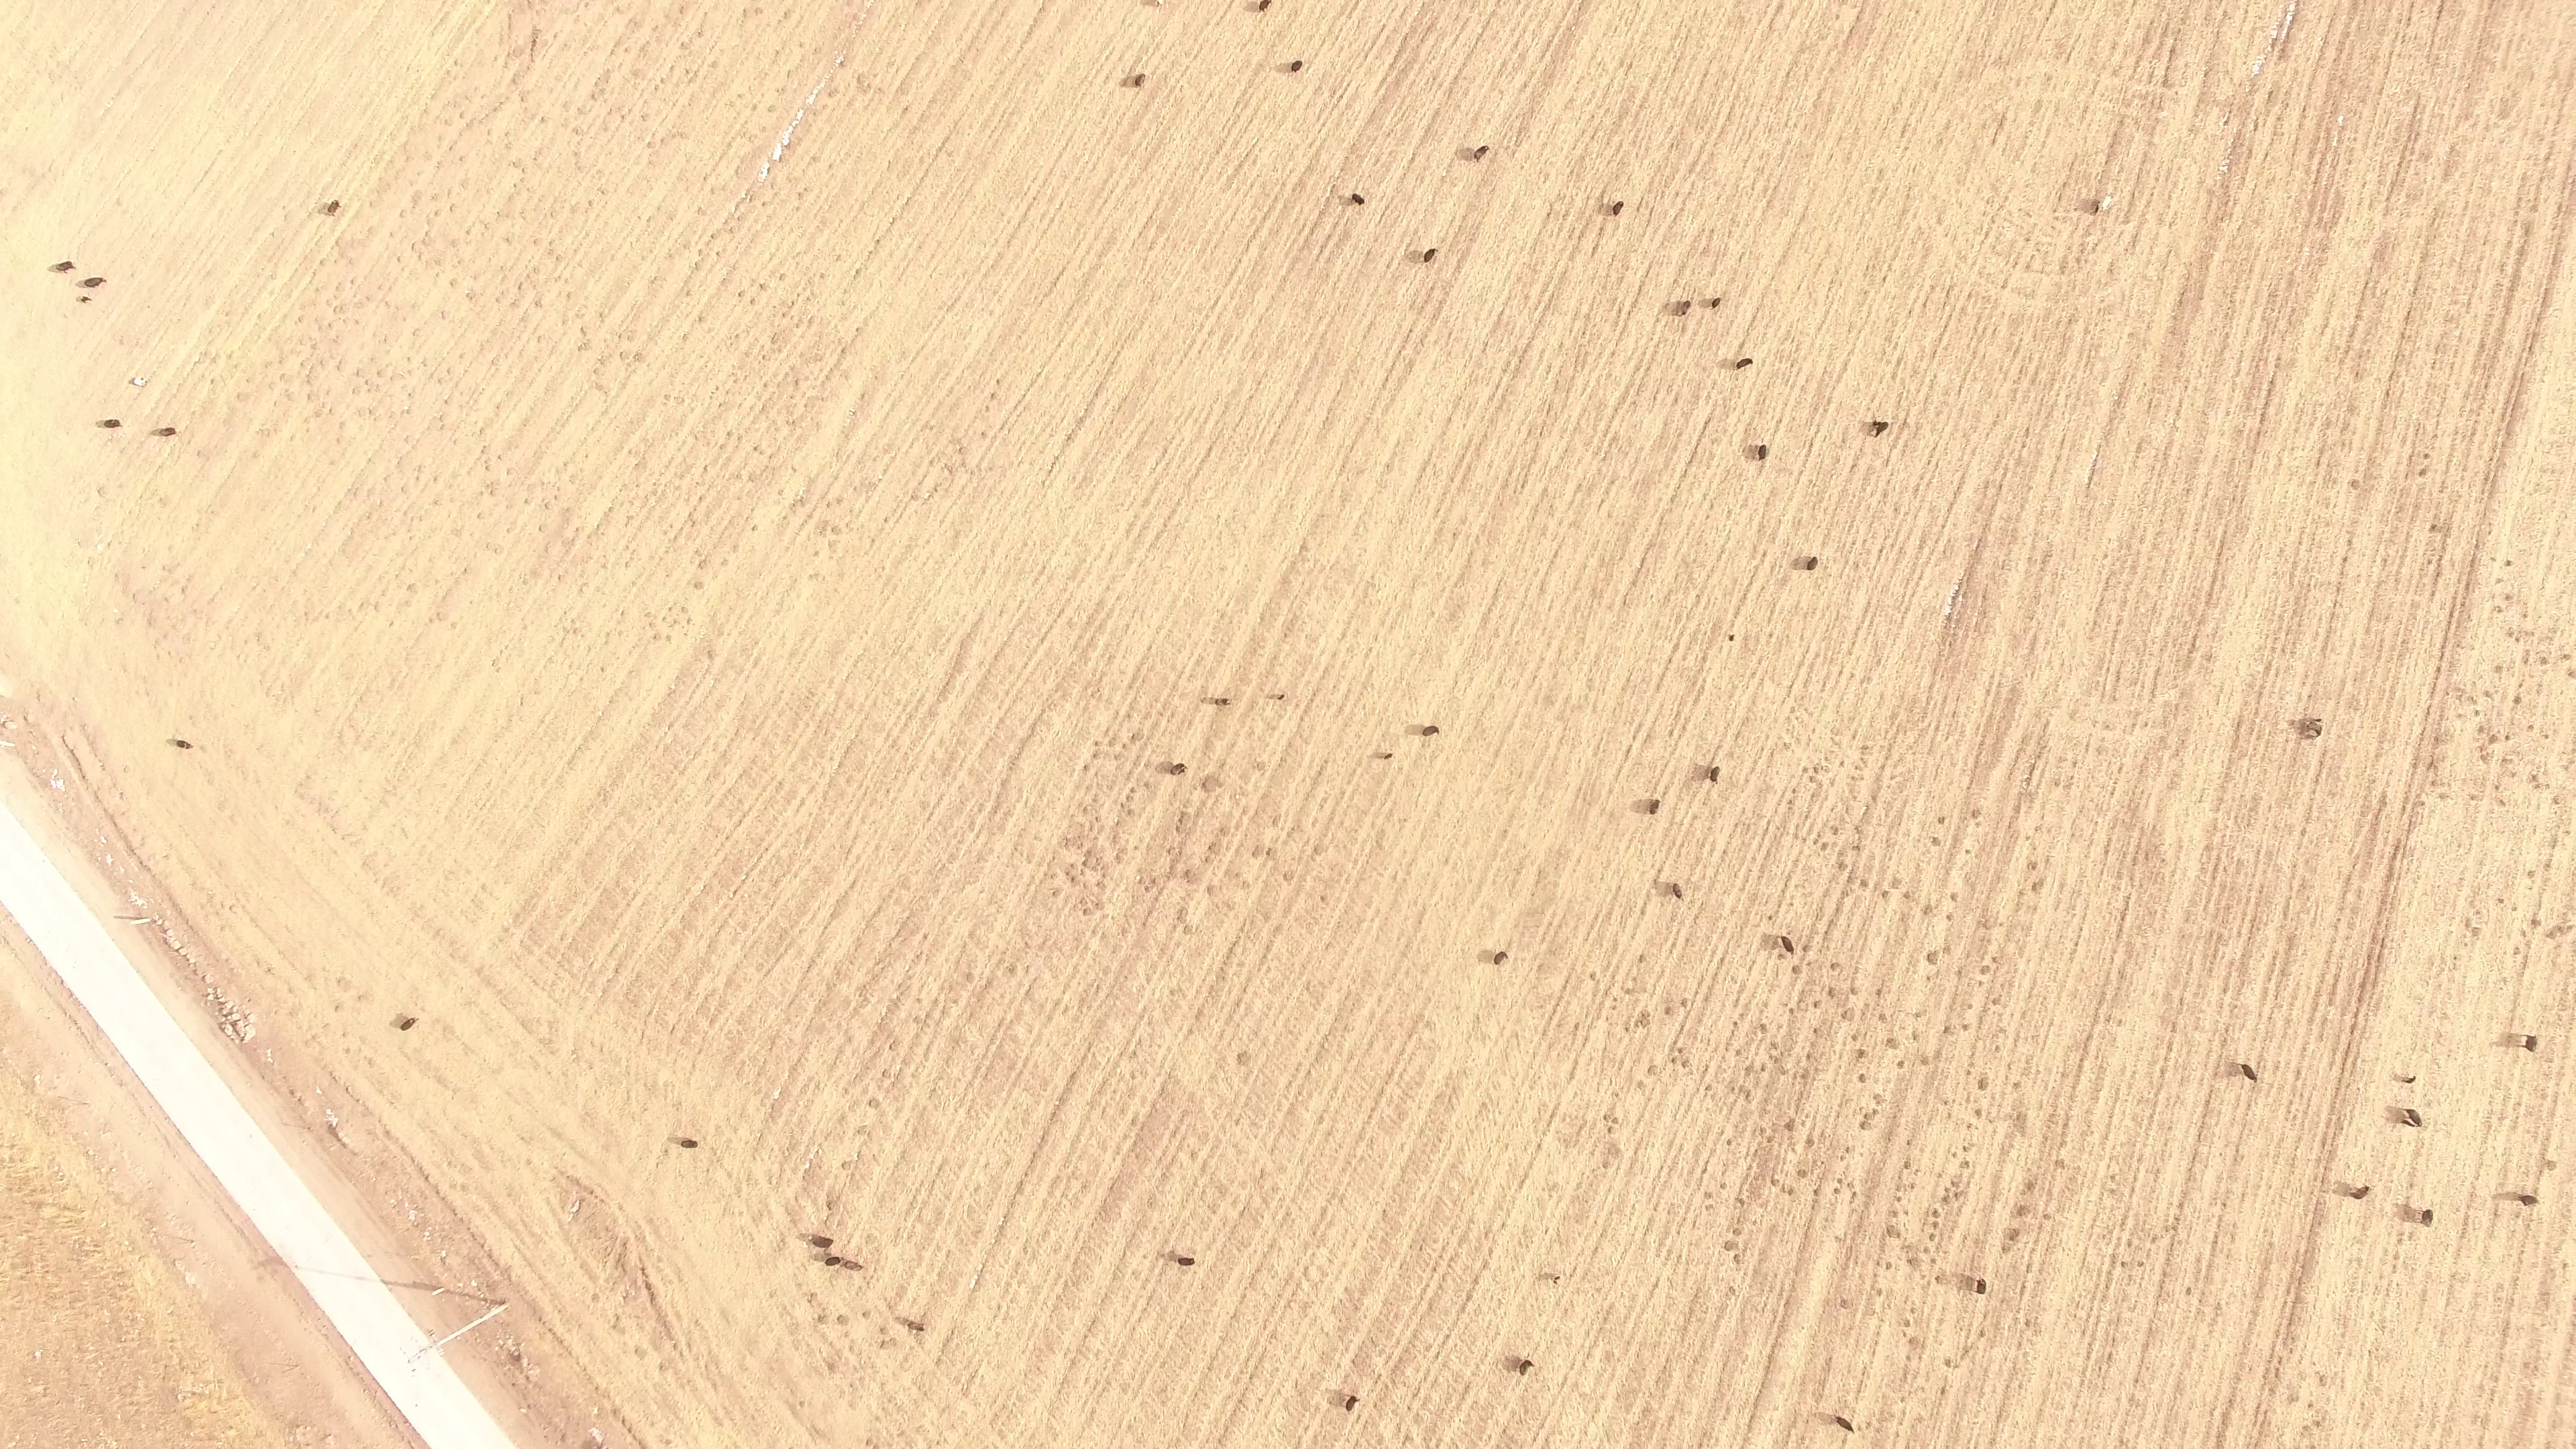sheep: (2396, 1106, 2425, 1130), (1124, 70, 1153, 91), (2235, 1061, 2261, 1085), (1831, 1411, 1856, 1434), (2092, 193, 2114, 218), (1513, 1356, 1536, 1379), (2345, 1183, 2372, 1203), (1167, 759, 1193, 779), (1340, 1391, 1360, 1414), (1868, 417, 1892, 439), (1672, 297, 1695, 319), (1778, 933, 1797, 957), (2516, 1190, 2540, 1210), (1731, 355, 1760, 372), (1416, 722, 1442, 740), (1469, 144, 1490, 164), (2417, 1206, 2436, 1230), (1667, 879, 1686, 902), (1607, 197, 1627, 219), (1210, 694, 1234, 711), (1285, 58, 1309, 76), (2522, 1032, 2540, 1055), (1489, 948, 1510, 968), (1802, 553, 1821, 574), (1752, 442, 1771, 463), (1418, 245, 1438, 266), (1645, 797, 1663, 818), (1973, 1276, 1990, 1297), (1705, 764, 1723, 786), (1346, 191, 1368, 209), (1250, 1, 1277, 15), (1705, 294, 1724, 311), (2399, 1074, 2418, 1087), (1546, 1273, 1563, 1285), (1381, 749, 1395, 763), (1725, 632, 1737, 644), (1275, 692, 1287, 703)
unknown: (2296, 714, 2325, 743), (389, 1011, 419, 1034), (2355, 971, 2372, 1007), (899, 1315, 927, 1335), (479, 1295, 508, 1317), (256, 1251, 288, 1269), (667, 1134, 701, 1152), (319, 197, 343, 219), (74, 274, 107, 291), (409, 1426, 432, 1449), (2398, 1200, 2420, 1224), (48, 258, 76, 276), (164, 736, 195, 753), (148, 424, 179, 440), (409, 1279, 441, 1294), (95, 416, 123, 431), (1957, 1273, 1976, 1295), (2080, 196, 2103, 217), (2388, 838, 2404, 863), (2501, 1030, 2520, 1051), (1174, 1253, 1197, 1269), (506, 1350, 524, 1369), (324, 1122, 341, 1142), (1782, 1115, 1799, 1134), (2503, 416, 2517, 439), (2383, 861, 2397, 881), (2006, 1226, 2023, 1244), (2013, 1201, 2030, 1220), (2529, 772, 2542, 792), (770, 143, 784, 162), (2023, 1177, 2037, 1195), (227, 1017, 240, 1035), (1768, 936, 1782, 953), (2364, 951, 2375, 969), (1199, 775, 1212, 794), (2445, 608, 2457, 628), (2282, 23, 2295, 42), (1884, 1222, 1898, 1238), (215, 1019, 228, 1035), (2186, 641, 2198, 657), (2298, 1258, 2310, 1276), (2347, 1020, 2360, 1038), (2461, 578, 2473, 594), (75, 293, 91, 306), (1722, 1240, 1736, 1254), (1854, 1048, 1868, 1062), (1941, 1022, 1954, 1036), (2416, 466, 2430, 479), (2288, 1301, 2300, 1319), (612, 1257, 628, 1271), (1794, 1167, 1810, 1180), (1662, 1004, 1674, 1018), (1825, 984, 1837, 1000), (1925, 950, 1937, 967), (2467, 556, 2478, 572), (2263, 386, 2275, 401), (2284, 13, 2300, 25), (2295, 1273, 2306, 1291), (2075, 1055, 2086, 1072), (825, 1360, 838, 1373), (646, 1291, 659, 1305), (642, 1279, 655, 1294), (1929, 1207, 1941, 1221), (1734, 1195, 1748, 1208), (1975, 1077, 1987, 1092), (221, 1009, 235, 1021), (2544, 928, 2557, 942), (2469, 927, 2481, 940), (1824, 917, 1837, 931), (2528, 916, 2543, 929), (1900, 889, 1913, 902), (1858, 876, 1870, 890), (1181, 866, 1193, 880), (1929, 834, 1941, 847), (2485, 732, 2499, 747), (2511, 694, 2524, 708), (2529, 329, 2542, 341), (580, 1438, 596, 1449), (2271, 1364, 2282, 1381), (2342, 1043, 2353, 1059), (2029, 879, 2040, 895), (2550, 250, 2561, 266), (2268, 35, 2279, 51), (399, 1413, 412, 1427), (1838, 1295, 1850, 1308), (1939, 1193, 1952, 1205), (1804, 1136, 1817, 1148), (1972, 1106, 1984, 1119), (1856, 1071, 1868, 1082), (1895, 1058, 1907, 1070), (1884, 1035, 1897, 1046), (1876, 1011, 1887, 1023), (1789, 964, 1801, 976), (1760, 934, 1772, 947), (2028, 859, 2040, 873), (1079, 857, 1091, 869), (1935, 815, 1947, 827), (2475, 723, 2487, 736), (2537, 655, 2550, 667), (2502, 592, 2514, 603), (2427, 521, 2439, 535), (2420, 450, 2432, 462), (2509, 402, 2521, 414), (2183, 1285, 2194, 1298), (1811, 1186, 1821, 1199), (1858, 1118, 1869, 1132), (1849, 843, 1864, 853), (1142, 1, 1159, 9), (1750, 1400, 1761, 1412), (1937, 1385, 1948, 1397), (350, 1369, 363, 1379), (1463, 1292, 1474, 1303), (1933, 1273, 1943, 1284), (1904, 1256, 1915, 1267), (2149, 1234, 2159, 1244), (1930, 1220, 1940, 1231), (1785, 1186, 1796, 1198), (1952, 1179, 1962, 1190), (1600, 1159, 1611, 1171), (2544, 1158, 2555, 1170), (1962, 1158, 1972, 1169), (2318, 1138, 2329, 1149), (1609, 1115, 1621, 1127), (2010, 1079, 2022, 1090), (1799, 1071, 1811, 1082), (1743, 1064, 1754, 1076), (1919, 1055, 1931, 1067), (1675, 1044, 1686, 1057), (1811, 1025, 1821, 1036), (1960, 1021, 1970, 1032), (1758, 1021, 1768, 1033), (1638, 1011, 1649, 1023), (1678, 998, 1689, 1010), (214, 998, 226, 1009), (1874, 986, 1885, 998), (1989, 954, 1999, 965), (1776, 951, 1788, 962), (1799, 943, 1811, 955), (160, 934, 170, 947), (2554, 923, 2565, 934), (2564, 922, 2575, 932), (1080, 906, 1090, 918), (2495, 896, 2507, 906), (1835, 860, 1845, 871), (1084, 847, 1095, 860), (1819, 841, 1830, 853), (1831, 826, 1841, 838), (1124, 806, 1135, 817), (1868, 793, 1880, 804), (2425, 759, 2436, 771), (2233, 731, 2243, 743), (2288, 717, 2298, 729), (1267, 692, 1279, 702), (2433, 663, 2444, 676), (2560, 651, 2571, 663), (2438, 641, 2449, 652), (1943, 614, 1955, 625), (2503, 557, 2514, 570), (2481, 472, 2493, 485), (126, 377, 138, 387), (873, 236, 883, 247), (2404, 133, 2414, 145), (2278, 45, 2289, 57), (1901, 1158, 1911, 1172), (1402, 1433, 1412, 1444), (2312, 1418, 2323, 1430), (1747, 1411, 1758, 1423), (2266, 1385, 2277, 1395), (2316, 1375, 2326, 1385), (1977, 1330, 1987, 1340), (2284, 1320, 2295, 1330), (1901, 1320, 1913, 1330), (2292, 1293, 2304, 1304), (2560, 1260, 2570, 1271), (2118, 1258, 2129, 1269), (1928, 1256, 1939, 1267), (1731, 1251, 1742, 1262), (2125, 1238, 2135, 1250), (998, 1222, 1008, 1232), (2041, 1212, 2053, 1222), (2176, 1199, 2187, 1210), (825, 1197, 836, 1207), (1831, 1185, 1842, 1196), (1014, 1183, 1024, 1195), (1835, 1177, 1845, 1187), (2053, 1157, 2063, 1167), (1785, 1152, 1796, 1163), (1842, 1145, 1852, 1155), (1723, 1138, 1734, 1148), (1764, 1135, 1774, 1146), (2014, 1111, 2024, 1121), (286, 1087, 297, 1097), (1067, 1071, 1077, 1083), (1964, 1068, 1974, 1079), (1678, 1059, 1689, 1069), (1772, 1055, 1782, 1065), (1668, 1055, 1678, 1066), (1803, 1053, 1813, 1063), (1733, 1047, 1743, 1058), (1769, 1040, 1779, 1051), (1849, 1032, 1860, 1043), (1910, 1032, 1920, 1042), (1730, 1019, 1741, 1029), (2351, 1008, 2362, 1019), (215, 1006, 225, 1016), (1811, 999, 1821, 1010), (1990, 996, 2001, 1006), (66, 990, 76, 1001), (57, 977, 67, 987), (1955, 968, 1965, 978), (1978, 965, 1988, 976), (1827, 961, 1839, 972), (2286, 934, 2296, 945), (2369, 932, 2379, 943), (2463, 920, 2473, 931), (1979, 920, 1990, 930), (149, 916, 160, 926), (2118, 912, 2128, 923), (1948, 892, 1958, 903), (1142, 885, 1152, 895), (1167, 863, 1177, 873), (1067, 861, 1077, 871), (1263, 848, 1273, 859), (1175, 816, 1186, 826), (2012, 806, 2023, 816), (2379, 798, 2390, 808), (2497, 798, 2507, 808), (2428, 778, 2438, 789), (1811, 764, 1821, 775), (1081, 763, 1091, 773), (2500, 755, 2510, 765), (67, 746, 77, 757), (2431, 734, 2442, 745), (2502, 733, 2512, 743), (2483, 690, 2493, 700), (2512, 634, 2522, 644), (2506, 629, 2516, 640), (1953, 615, 1964, 626), (1942, 605, 1953, 616), (1959, 591, 1969, 602), (2205, 590, 2215, 600), (2471, 542, 2482, 552), (2487, 482, 2498, 492), (751, 444, 761, 454), (1064, 433, 1074, 443), (2534, 315, 2544, 325), (2539, 297, 2549, 307), (2542, 284, 2553, 296), (2522, 225, 2532, 236), (2167, 46, 2178, 57), (529, 37, 539, 47), (1765, 1356, 1775, 1367), (1786, 1006, 1796, 1017), (1173, 823, 1183, 835), (2514, 388, 2524, 399), (590, 1427, 600, 1437), (2300, 1424, 2310, 1434), (2225, 1397, 2235, 1407), (1900, 1370, 1910, 1381), (2023, 1317, 2033, 1327), (1783, 1298, 1793, 1308), (2017, 1288, 2027, 1298), (2135, 1260, 2145, 1270), (1999, 1245, 2009, 1255), (2211, 1231, 2221, 1242), (1893, 1229, 1903, 1239), (1951, 1190, 1961, 1201), (2107, 1187, 2117, 1197), (1941, 1185, 1951, 1195), (2108, 1173, 2118, 1183), (1604, 1125, 1614, 1135), (1758, 1065, 1769, 1075), (2083, 1034, 2093, 1044), (1192, 1012, 1202, 1022), (1622, 987, 1633, 997), (1847, 985, 1858, 995), (198, 974, 208, 984), (2374, 953, 2384, 963), (2377, 941, 2387, 952), (920, 932, 930, 942), (160, 926, 170, 936), (1765, 913, 1775, 923), (1921, 907, 1931, 918), (1280, 871, 1290, 881), (1962, 847, 1972, 857), (2492, 782, 2502, 793), (1091, 750, 1101, 760), (2340, 555, 2351, 565), (1298, 542, 1308, 552), (2135, 442, 2145, 453), (2510, 371, 2520, 381), (2353, 311, 2363, 321), (2073, 256, 2083, 266), (836, 60, 846, 70), (870, 1442, 882, 1449), (1234, 1052, 1244, 1062), (1717, 955, 1727, 965), (1880, 888, 1890, 898), (1845, 873, 1855, 883), (1068, 873, 1078, 883), (2542, 732, 2552, 742), (2425, 557, 2435, 567), (2308, 1442, 2318, 1449), (638, 1442, 648, 1449), (407, 1444, 417, 1449), (594, 1443, 604, 1449), (1156, 1, 1166, 6)
